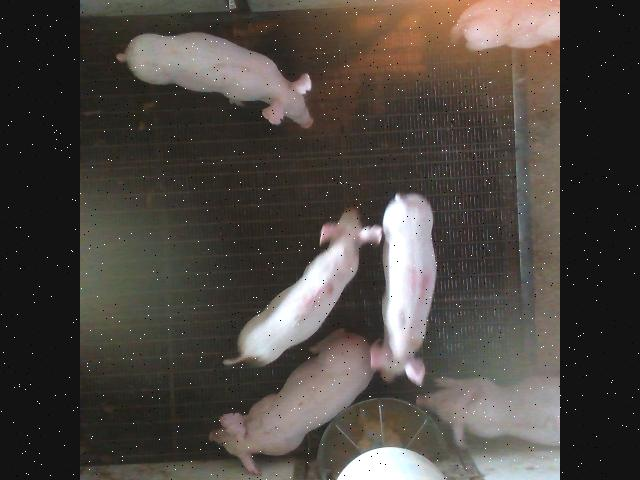pig-4: (370, 194, 436, 383)
pig-5: (224, 208, 382, 365)
